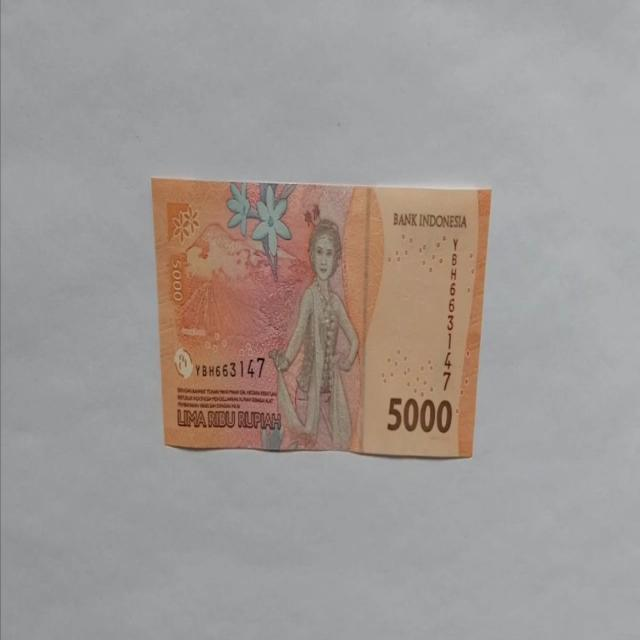lima ribu rupiah: (150, 176, 492, 459), (268, 218, 360, 450)
